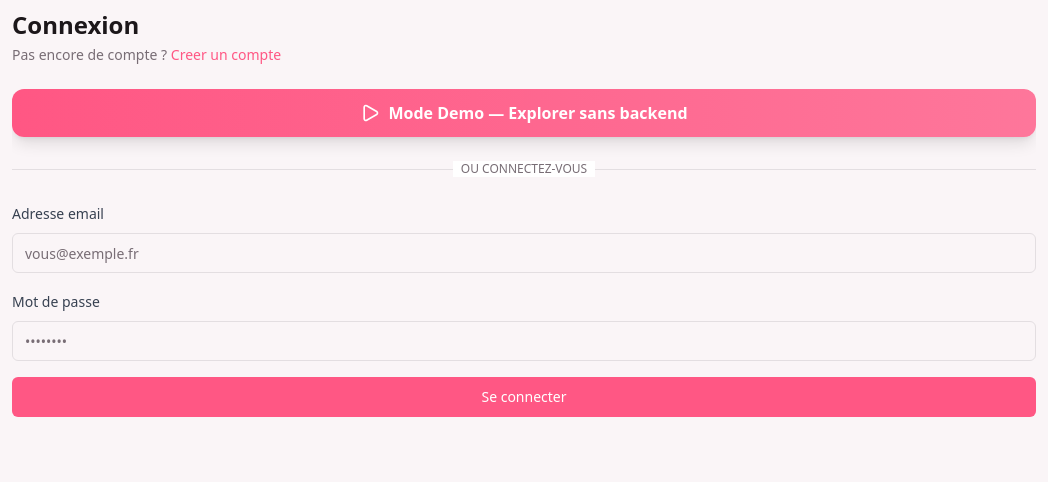
LoginPage › shows validation error for invalid email
Click the button "Se connecter".
click(524, 397)  # box [12,377,1036,417]
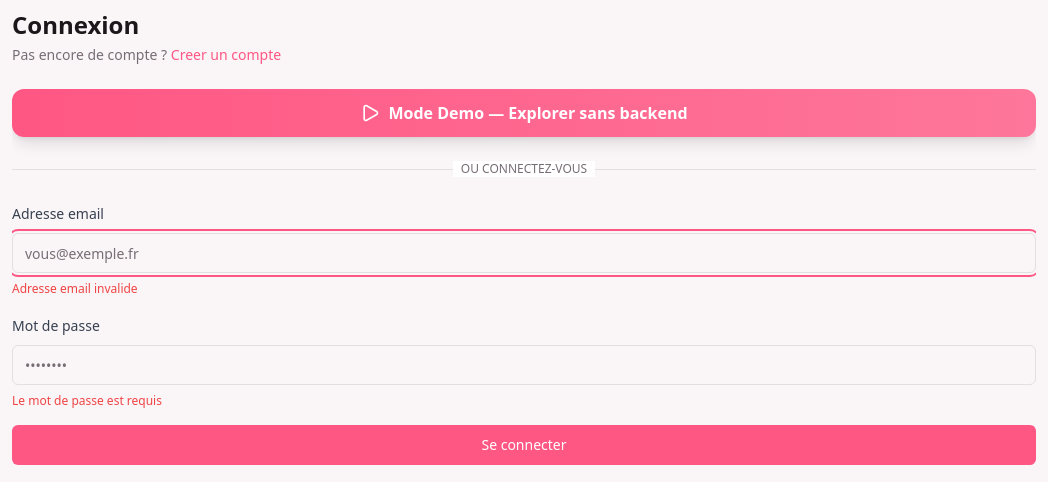
Expected: the text "Adresse email invalide" is shown, [12,280,138,297]
